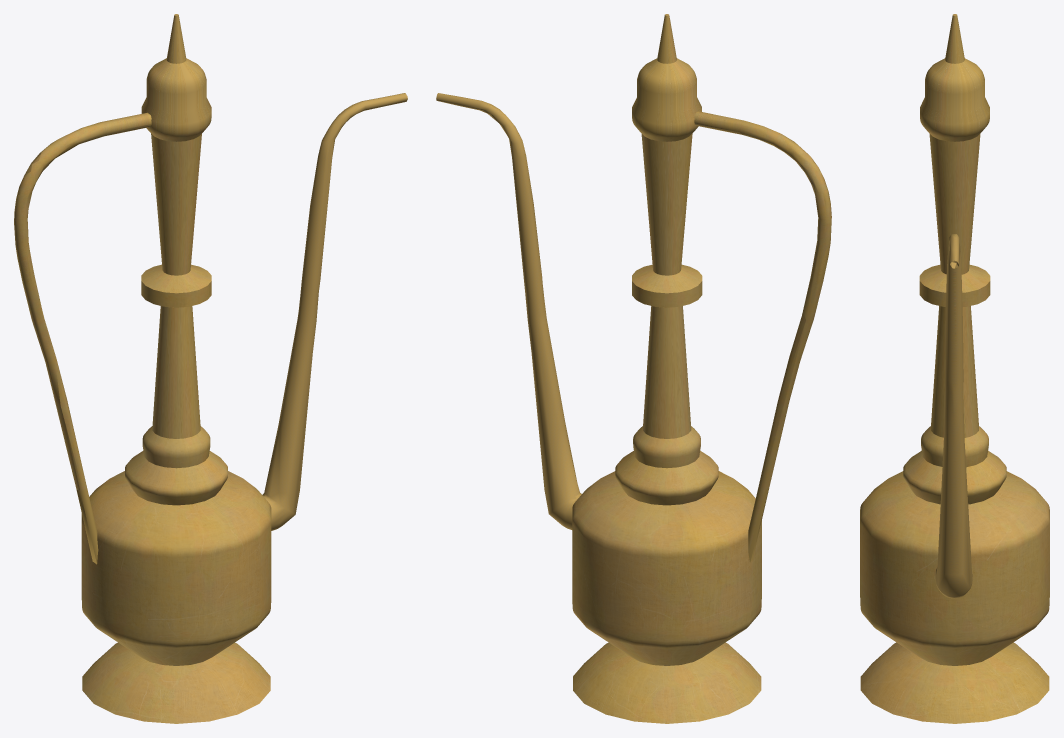
Rendered from Arabic jar 1.fbx.
3 views of the same model, side by side, from view 1: azimuth 30°, elevation 25°; view 2: azimuth 150°, elevation 25°; view 3: azimuth 270°, elevation 25° (orthographic).
Parts seen in each view (by area): view 1: Arabic jar 1; view 2: Arabic jar 1; view 3: Arabic jar 1.
Part boxes in pixels (<box>): Arabic jar 1: <box>14,14,407,723</box>; Arabic jar 1: <box>436,14,831,723</box>; Arabic jar 1: <box>860,14,1049,723</box>.
Bounding box in the file's own units: 18.73 × 30.54 × 7.86.
Materials: 1 (1 with a texture image).
